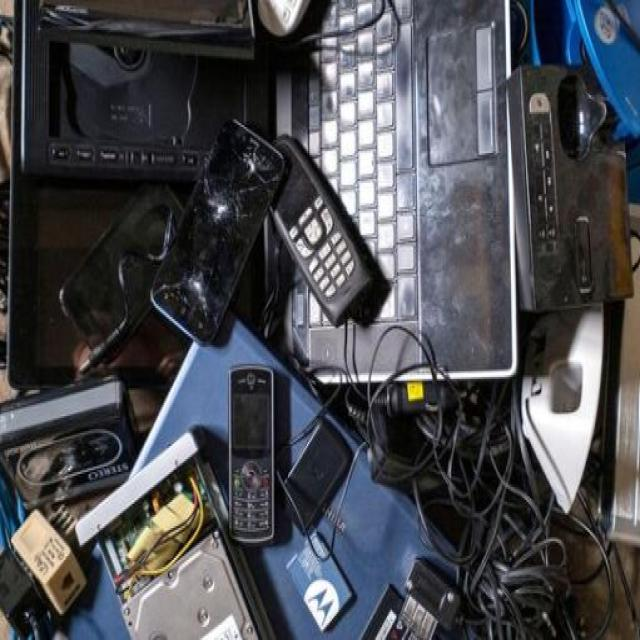electronic: (274, 6, 518, 397), (366, 373, 612, 640), (172, 87, 288, 374), (519, 76, 640, 333), (262, 122, 402, 344), (73, 160, 196, 410), (208, 362, 302, 570)
